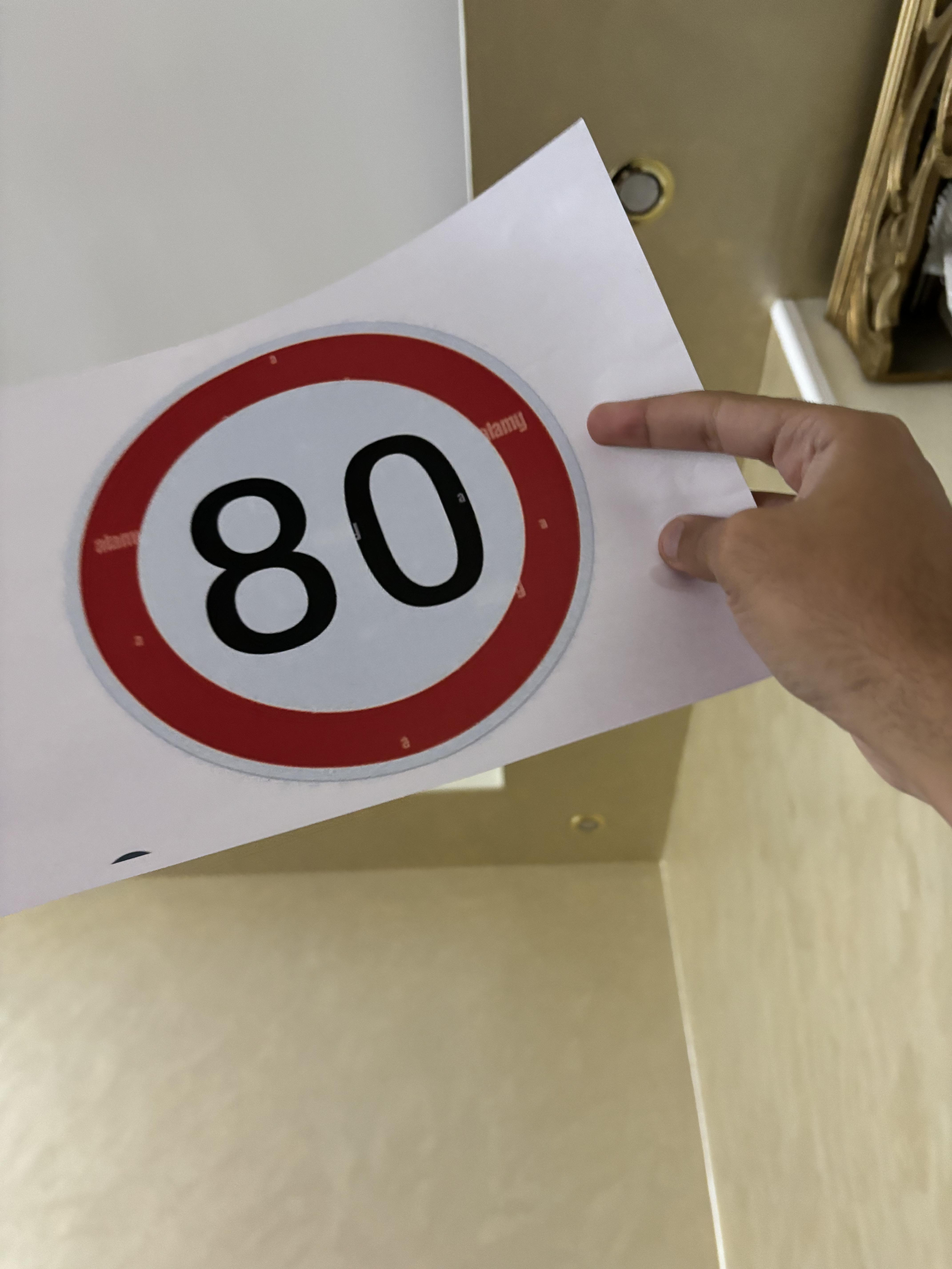80-Speed: (63, 314, 605, 787)
